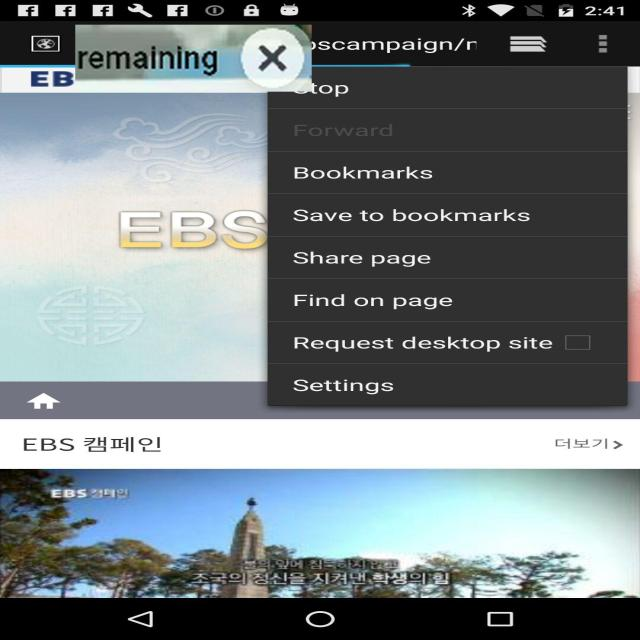misdirection: (75, 24, 312, 92)
